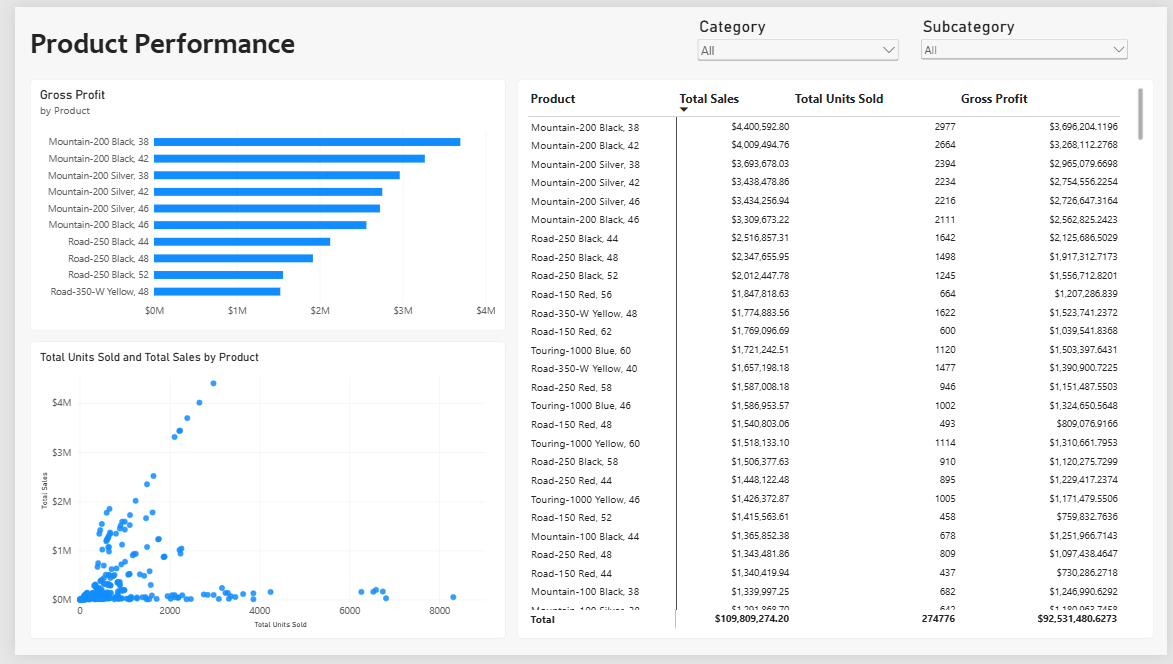

The dashboard page shown, as its layout file describes it:
{"tool":"powerbi","page":{"name":"Product Performance","canvas":[1920,1080],"ordinal":3},"visuals":[{"type":"clusteredBarChart","fields":{"Category":["dim_product.product_name"],"Y":["_measure (internet).Gross Profit"]},"box":[25,120,792.5,420],"z":0},{"type":"scatterChart","fields":{"Category":["dim_product.product_name"],"X":["_measure (others).Total Units Sold"],"Y":["_measure (others).Total Sales"]},"box":[25,557.5,792.5,495],"z":1000},{"type":"textbox","box":[25.6,30,577.5,60],"z":2000},{"type":"pivotTable","fields":{"Rows":["dim_product.product_name"],"Values":["_measure (others).Total Sales","_measure (others).Total Units Sold","_measure (internet).Gross Profit"]},"box":[837.5,120,1060,932.5],"z":3000},{"type":"slicer","fields":{"Values":["dim_product.category"]},"box":[1132.5,15,345,90],"z":4000},{"type":"slicer","fields":{"Values":["dim_product.subcategory"]},"box":[1505,15,355,90],"z":5000}]}

Visuals, with their boxes in screenshot pixels (x1, y1, x2, y2), scaled from the page's 1920x1080 canvas onto the 1173x664 screenshot:
clusteredBarChart - dim_product.product_name x _measure (internet).Gross Profit: bbox=(15, 74, 499, 332)
scatterChart - dim_product.product_name x _measure (others).Total Units Sold: bbox=(15, 343, 499, 647)
textbox: bbox=(16, 18, 368, 55)
pivotTable - dim_product.product_name x _measure (others).Total Sales: bbox=(512, 74, 1159, 647)
slicer - dim_product.category: bbox=(692, 9, 903, 65)
slicer - dim_product.subcategory: bbox=(919, 9, 1136, 65)
